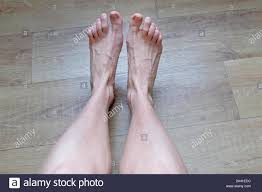Feet: (126, 11, 162, 103), (89, 10, 122, 103)
